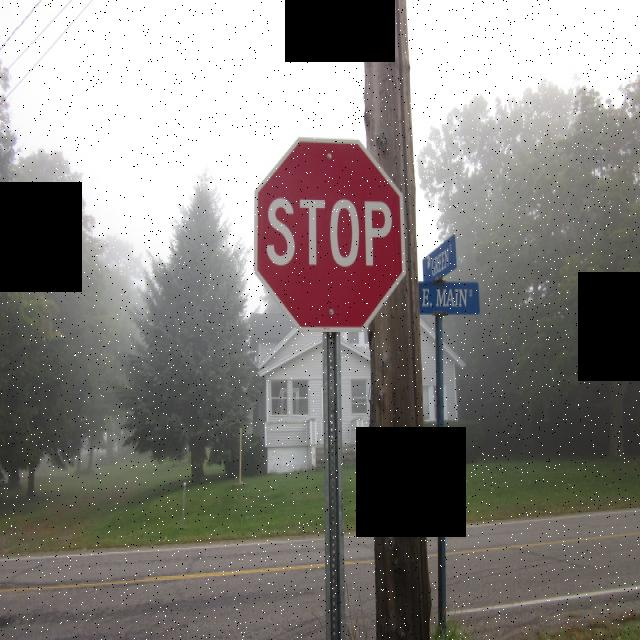stop: (251, 127, 409, 333)
